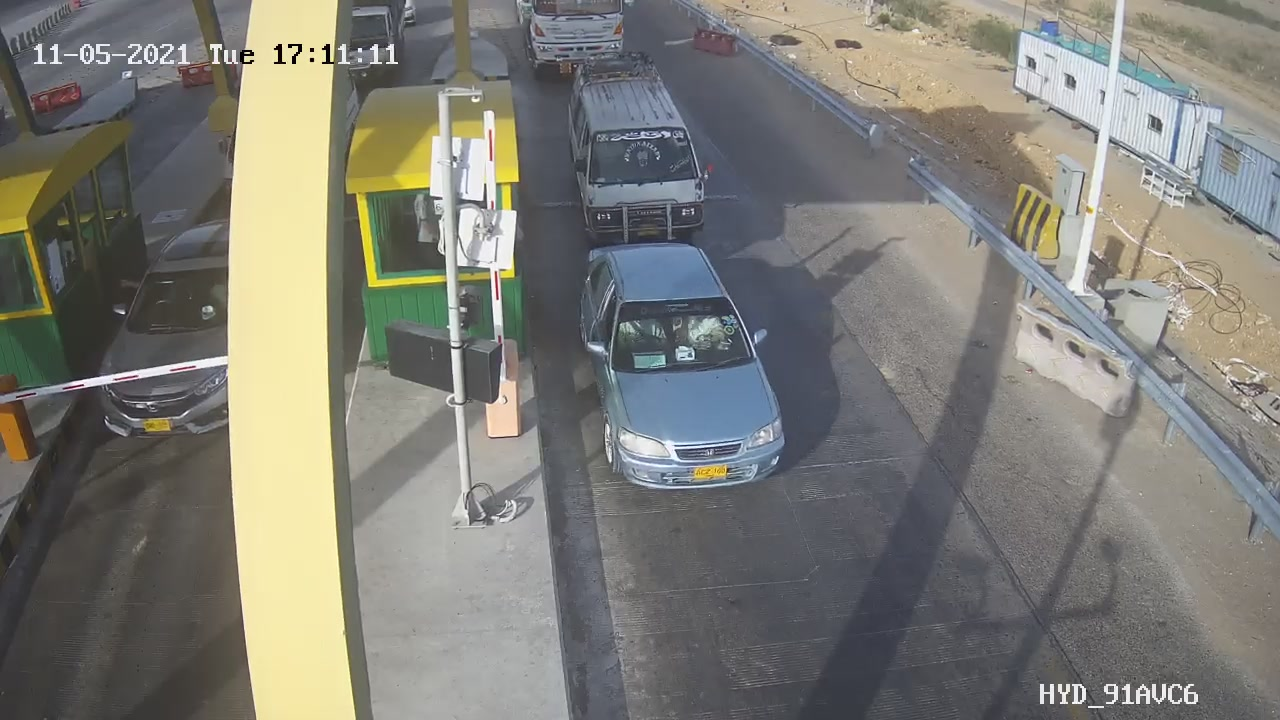F1: (564, 238, 802, 491)
F2: (546, 43, 738, 265)
